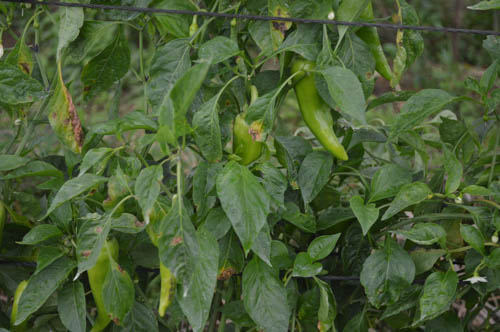ChiliPepper: (285, 55, 350, 161), (82, 239, 125, 332), (352, 2, 400, 83), (232, 103, 264, 169), (7, 278, 38, 332)
